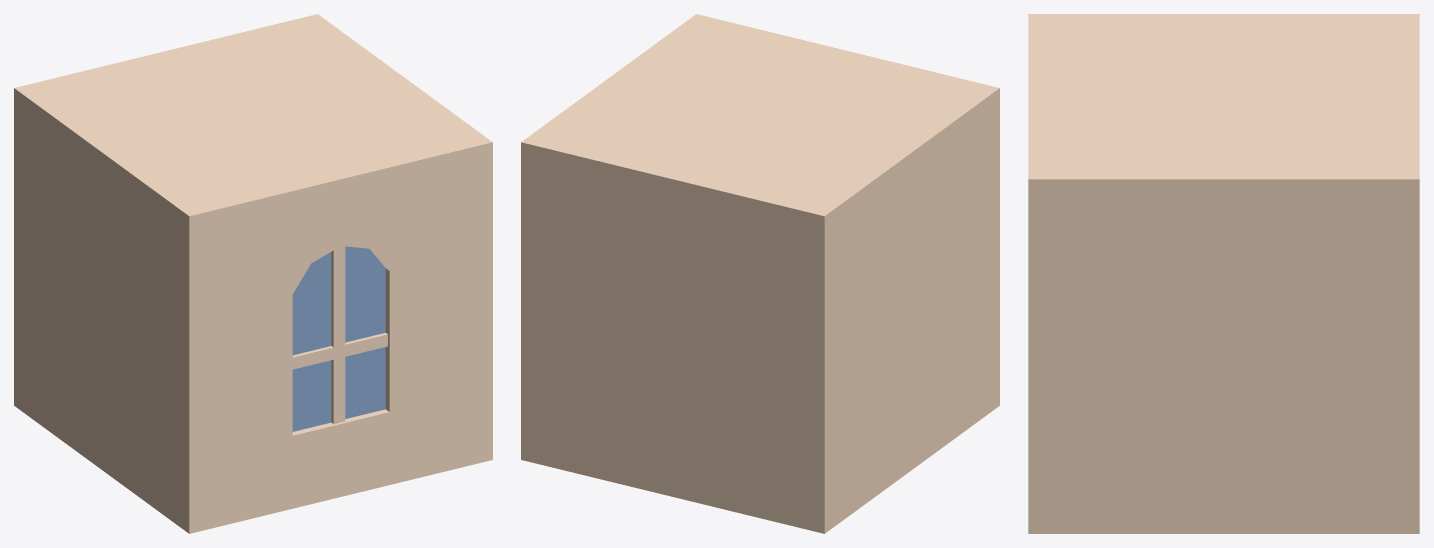
The model's file is Abstract_Castle_Block_Single_Window_Cream_01.fbx.
3 views of the same model, side by side, from view 1: azimuth 30°, elevation 25°; view 2: azimuth 150°, elevation 25°; view 3: azimuth 270°, elevation 25° (orthographic). The views are drawn at different scales.
Parts seen in each view (by area): view 1: Model; view 2: Model; view 3: Model.
Boxes of the visible parts, <box> form: Model: <box>14,14,492,533</box>; Model: <box>521,14,999,533</box>; Model: <box>1028,14,1419,533</box>.
Bounding box in the file's own units: 1000 × 1000 × 1000.
